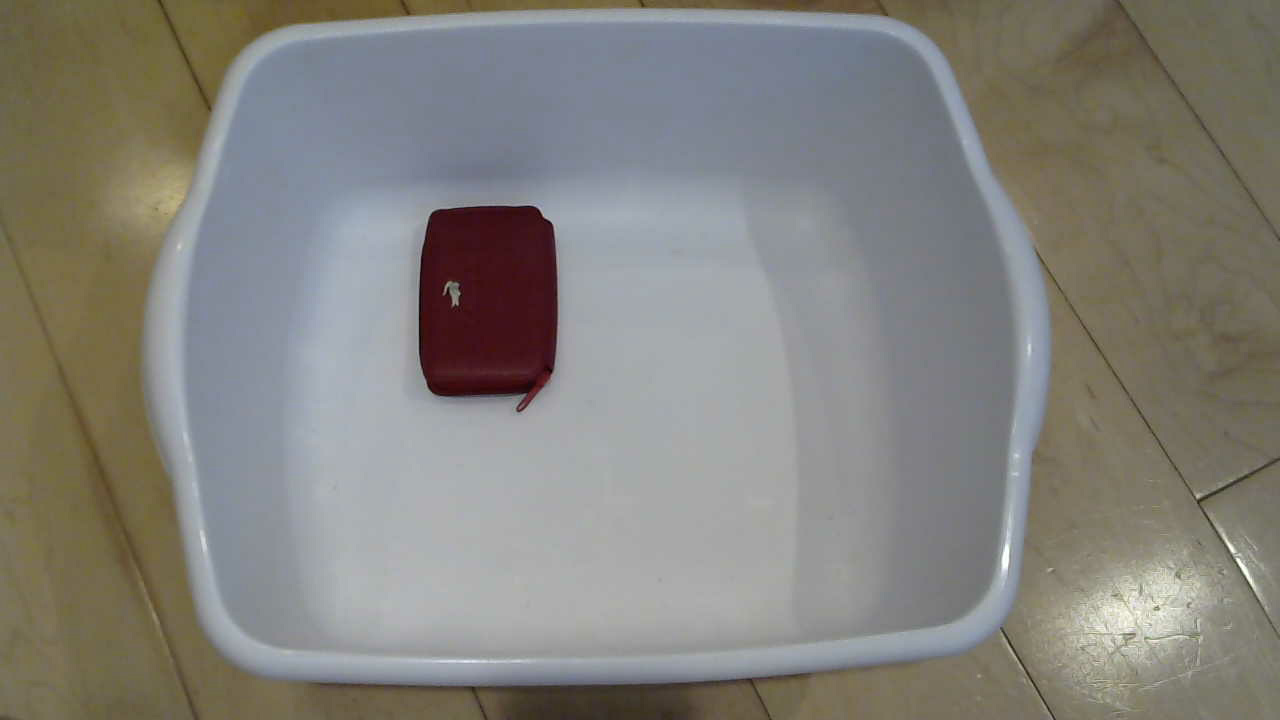wallet: (392, 185, 580, 416)
